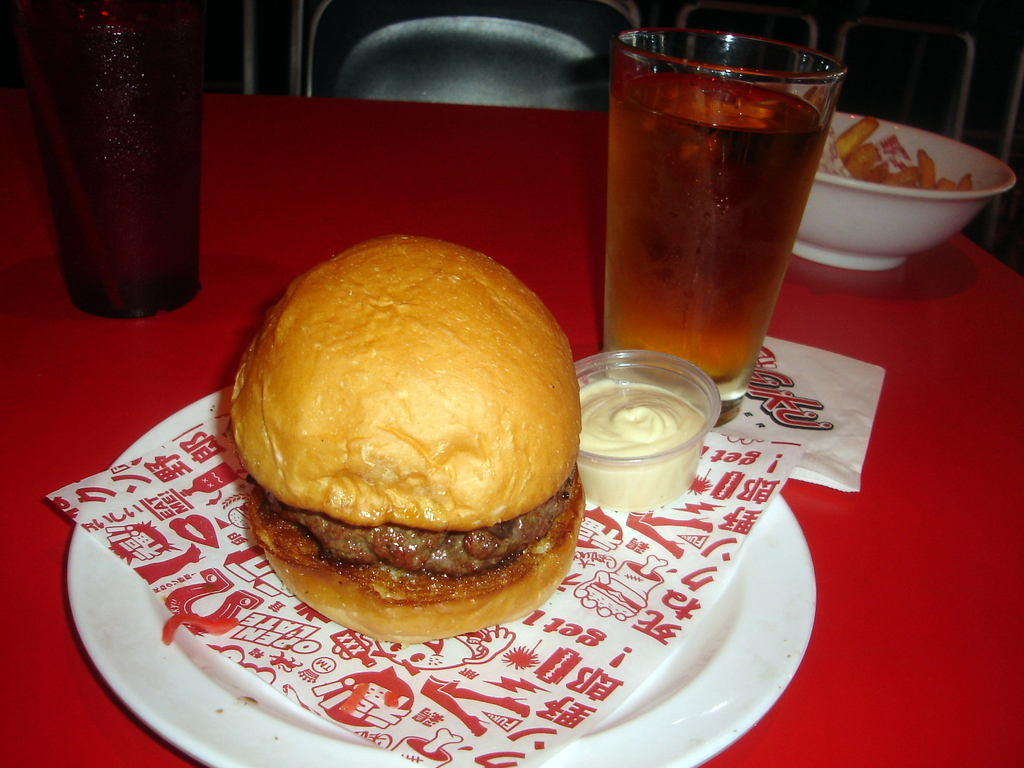Hamburger: (229, 232, 588, 641)
